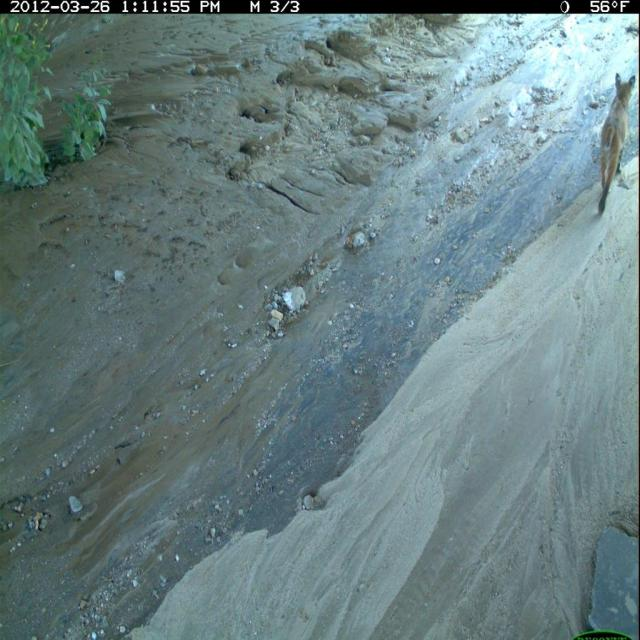bobcat: (593, 65, 636, 222)
